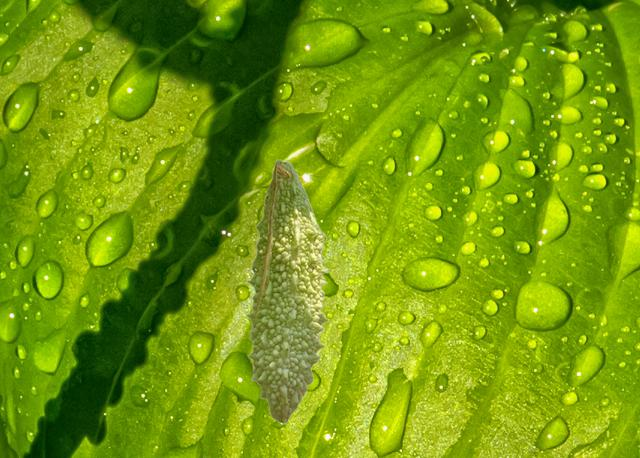ampalaya: (243, 157, 330, 427)
